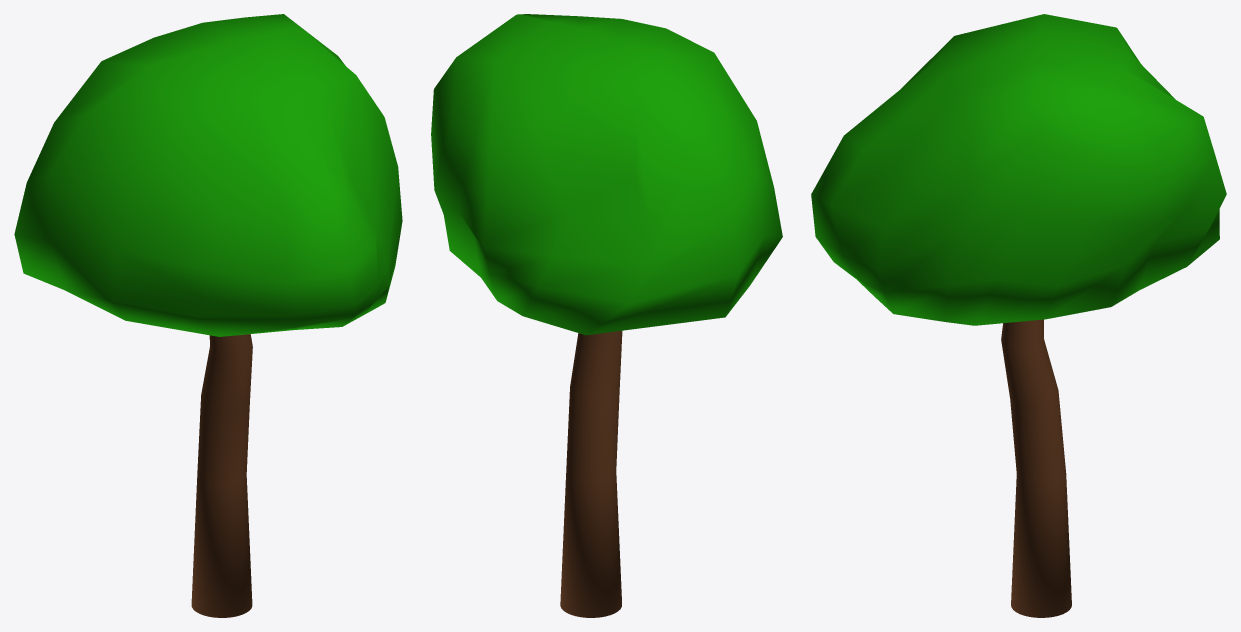
Rendered from dumb_tree.fbx.
3 renders of one model, left to right at view 1: azimuth 30°, elevation 25°; view 2: azimuth 150°, elevation 25°; view 3: azimuth 270°, elevation 25°, orthographic.
Parts seen in each view (by area): view 1: Cube, Cylinder; view 2: Cube, Cylinder; view 3: Cube, Cylinder.
Boxes of the visible parts, box(x1,y1,x2,y2) form: Cube: box(14, 14, 402, 336); Cylinder: box(191, 334, 252, 617); Cube: box(431, 14, 782, 335); Cylinder: box(560, 330, 622, 617); Cube: box(811, 14, 1226, 325); Cylinder: box(1001, 319, 1071, 617).
Size of the model in its own units: 8.17 by 13.91 by 9.3.
